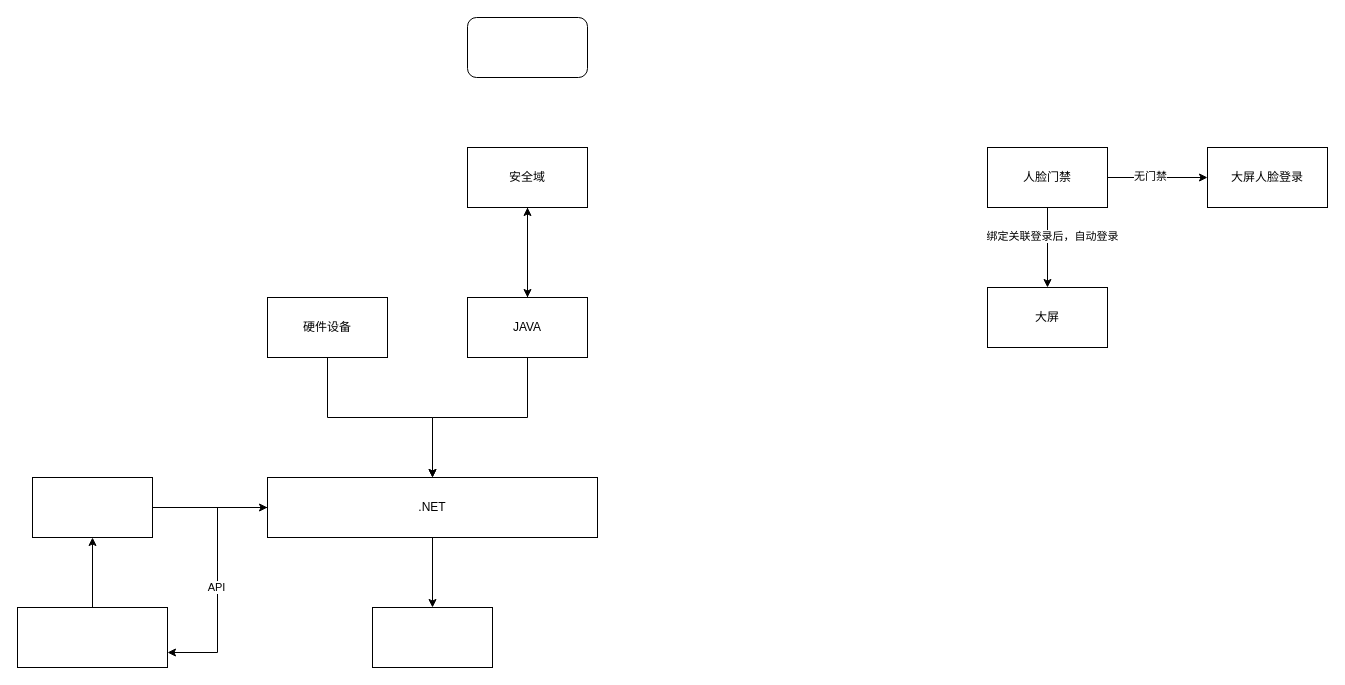
This 1345x685 diagram has some shape labels left out. Each missing label, with the centre of its shape:
.NET WebView: point (92, 507)
架构图: point (527, 47)
桌面程序: point (432, 637)
页面 UNI-APP: point (92, 637)
